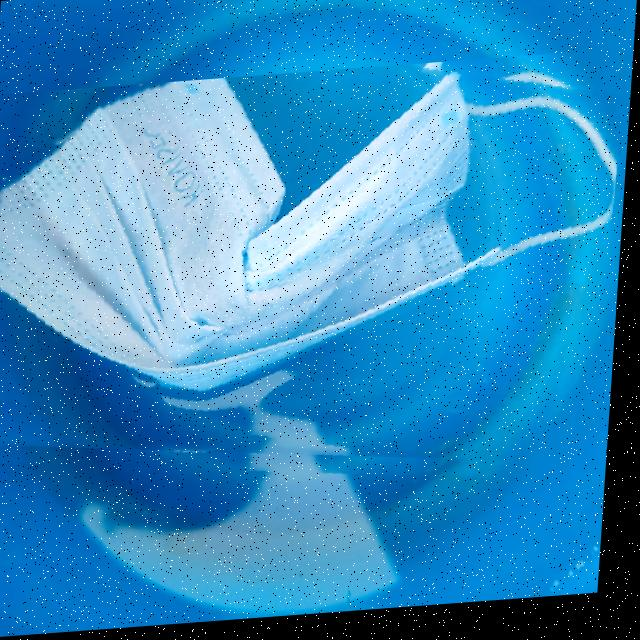mask: (0, 57, 625, 509)
